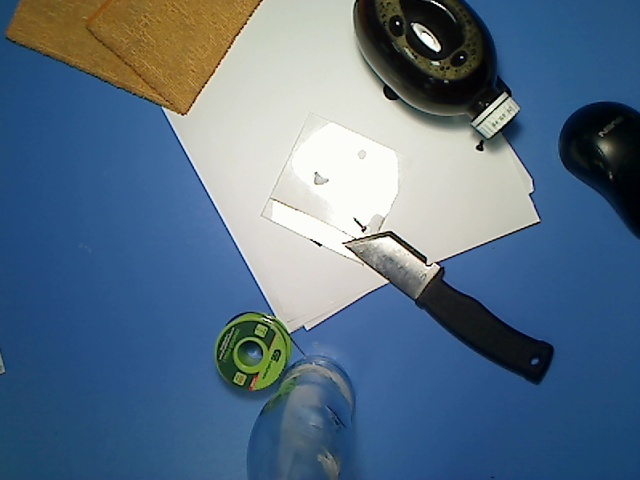plast_bottle: (351, 1, 527, 141)
